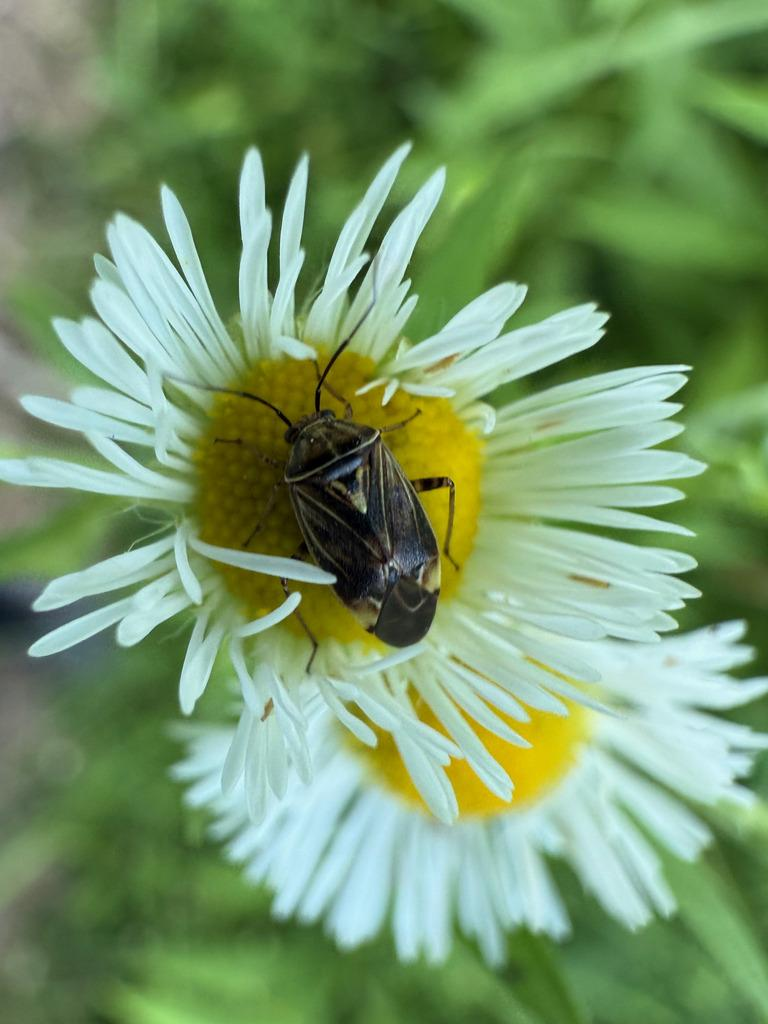plant_bugs: (136, 269, 555, 694)
